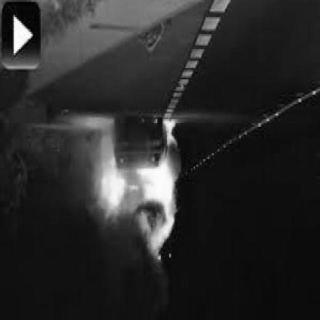Fire: (87, 119, 179, 265)
